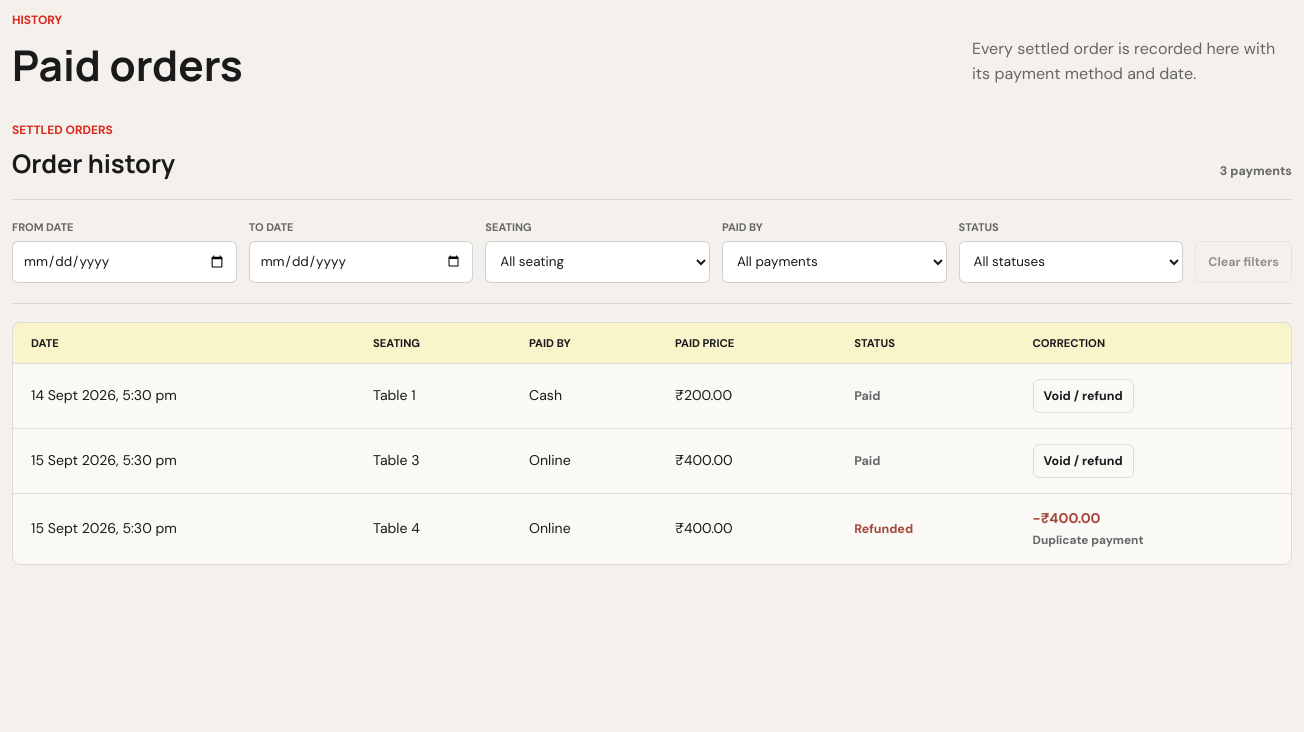
Test: financial views › filters paid history by date, seating, payment method, and correction status
Expected: the text "3 payments" is shown, [1220, 162, 1292, 178]
Step 1. Type "2026-09-15" into the date field labelled "From date" → (124, 262), box [12, 240, 237, 282]
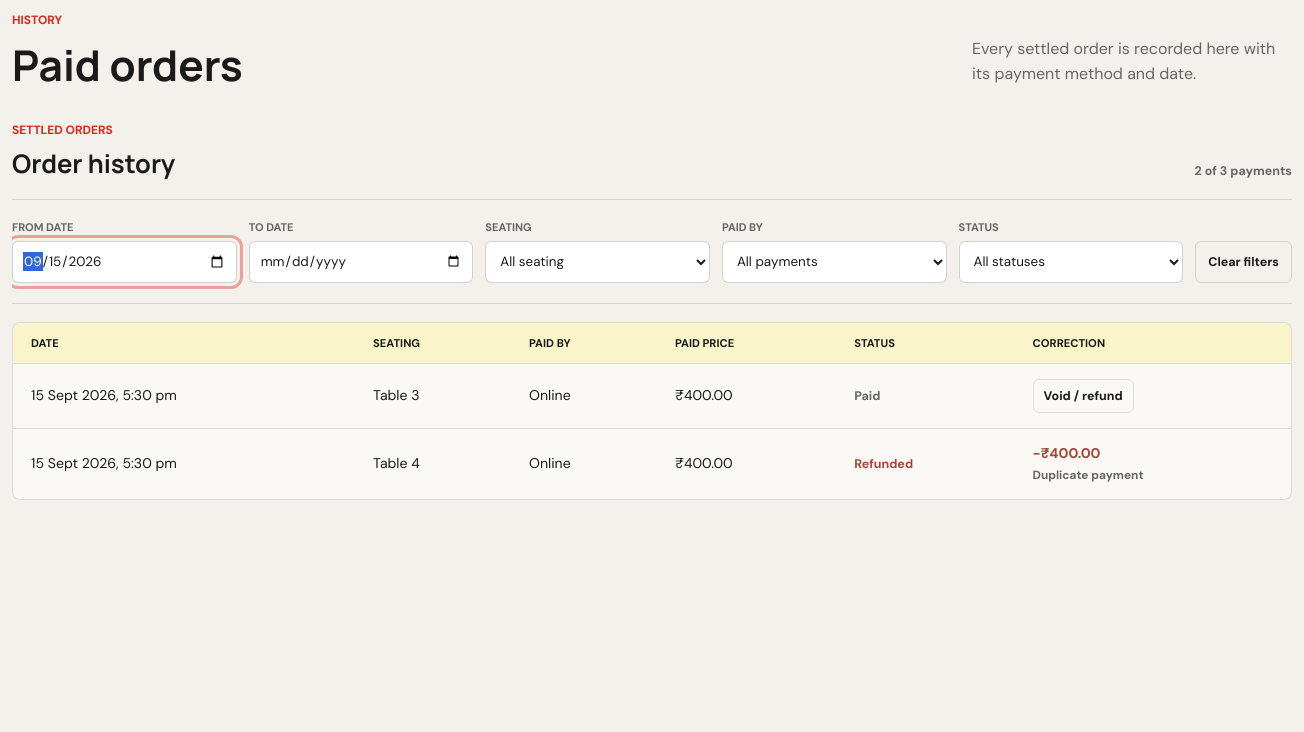
Expected: the text "2 of 3 payments" is shown, [1194, 162, 1292, 178]
Expected: the text "Table 1" is gone
Step 2. Select "Table 4" in the dropdown labelled "Seating" → (598, 262), box [485, 240, 710, 282]
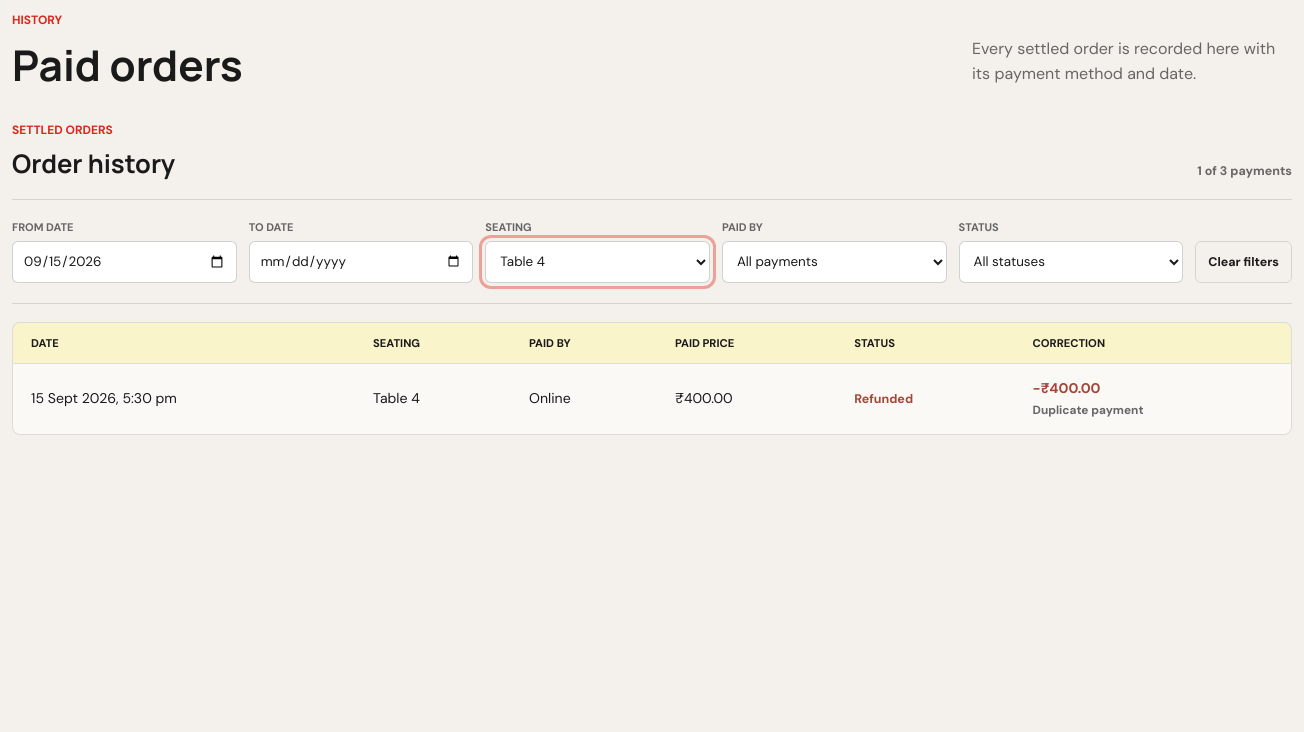
Step 3. Select "Online" in the dropdown labelled "Paid by" → (834, 262), box [722, 240, 946, 282]
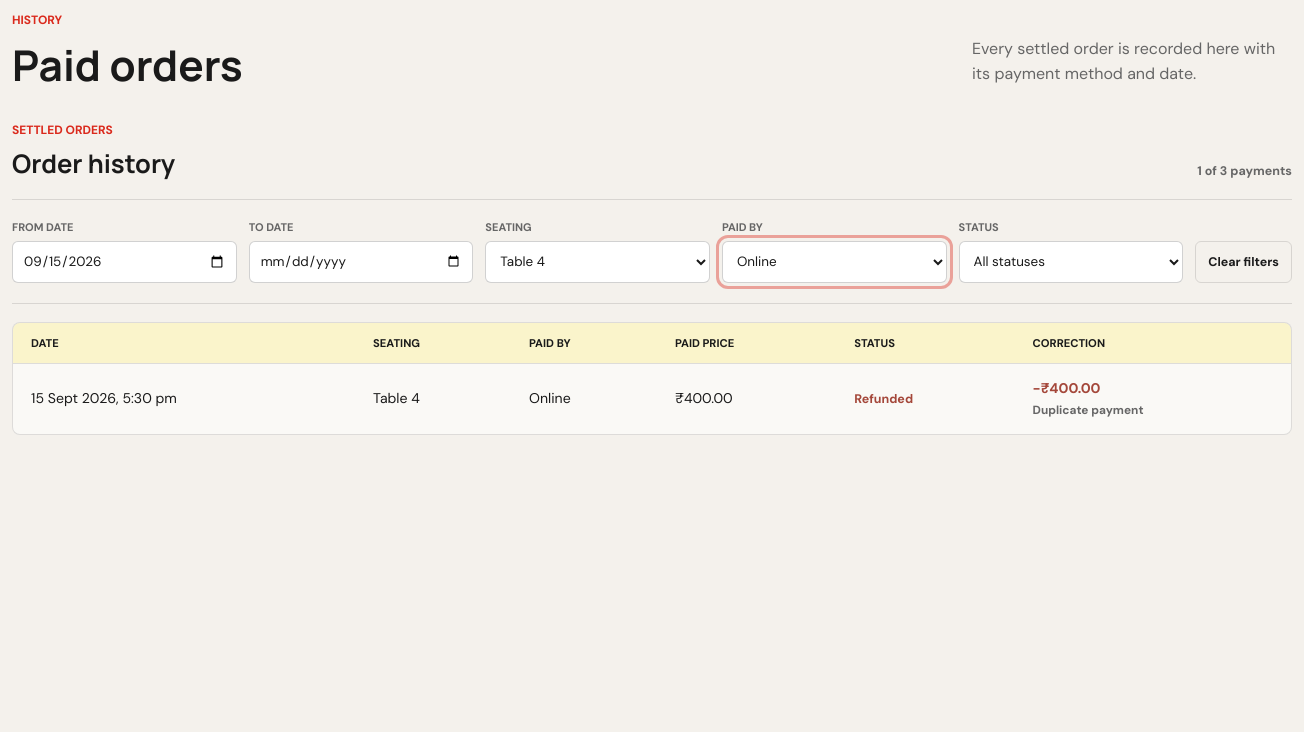
Step 4. Select "Refunded" in the dropdown labelled "Status" → (1071, 262), box [959, 240, 1183, 282]
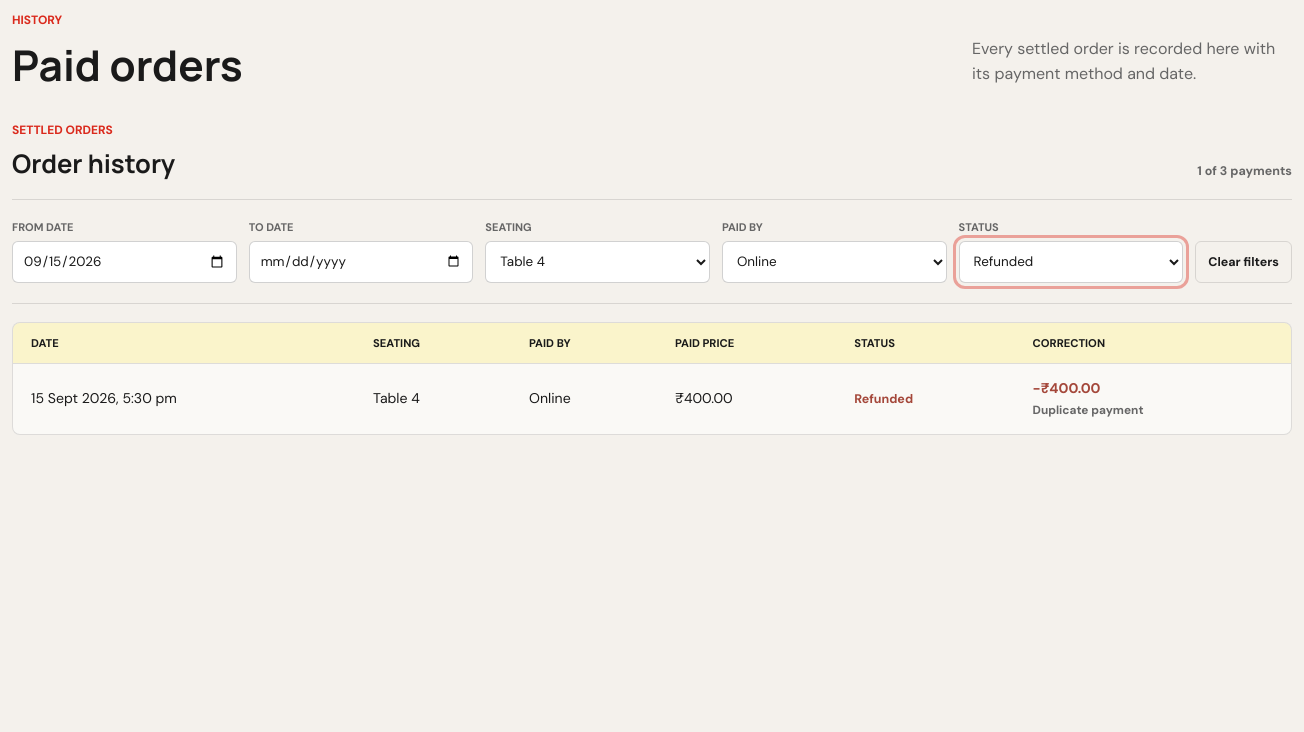
Expected: the text "Table 4" is shown, [355, 363, 511, 434]
Expected: the text "1 of 3 payments" is shown, [1197, 162, 1292, 178]
Step 5. Click the button "Clear filters" → (1244, 262), box [1195, 240, 1292, 282]
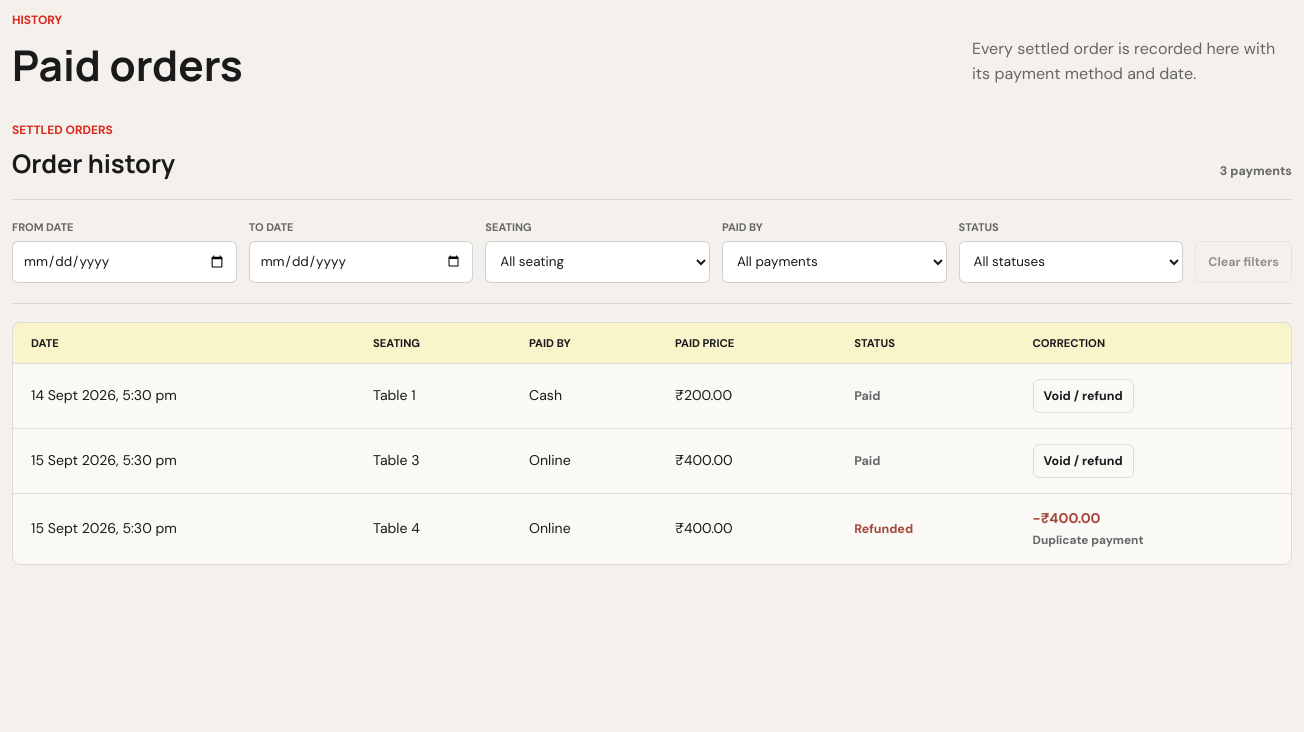
Expected: the text "3 payments" is shown, [1220, 162, 1292, 178]
Expected: the text "Table 1" is shown, [355, 363, 511, 428]
